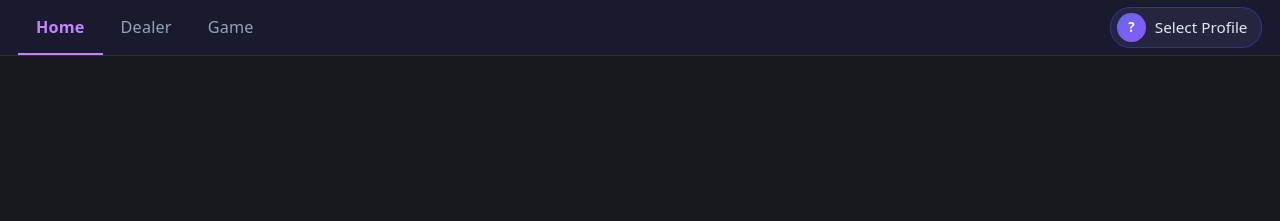
Test: NavBar › shows player list after clicking Switch Profile
Expected: the text "Select Profile" is shown, [1155, 14, 1248, 41]
Click the button with test id "profile-btn": (1186, 28) [1110, 7, 1262, 48]
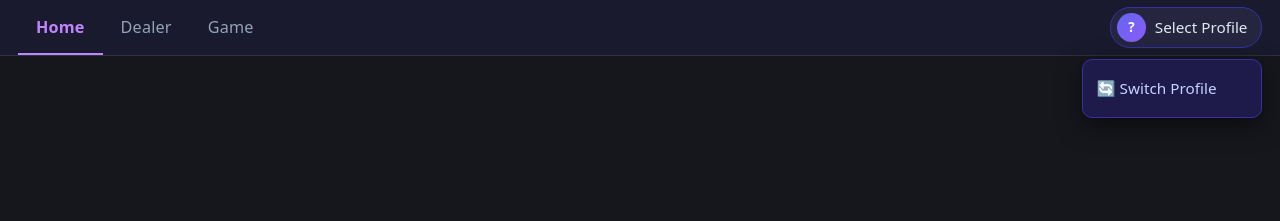
Click the button with test id "switch-profile-btn": (1172, 88) [1083, 66, 1261, 110]
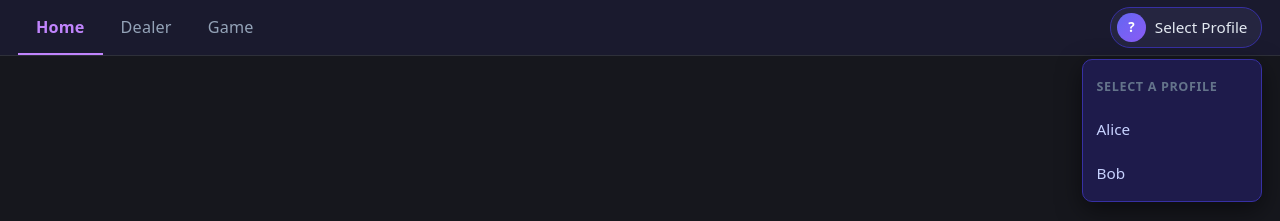
Expected: the button with test id "profile-option-Alice" is shown, [1083, 107, 1261, 151]
Expected: the button with test id "profile-option-Bob" is shown, [1083, 151, 1261, 195]
